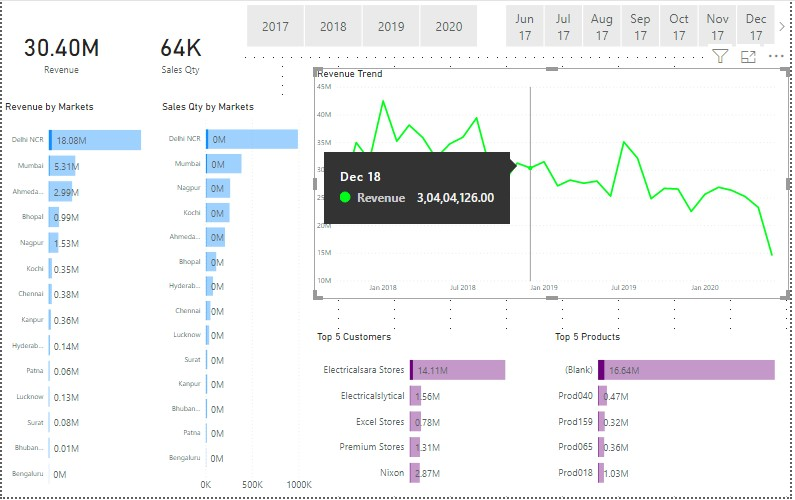

Layout of this report page (visuals, bound fields, positions):
{"tool":"powerbi","page":{"name":"Page 1","canvas":[1350,850],"ordinal":0},"visuals":[{"type":"card","fields":{"Values":["BaseMeasure.Revenue"]},"box":[0,0,204.4,170.7],"z":0},{"type":"card","fields":{"Values":["BaseMeasure.Sales Qty"]},"box":[204.4,0,204.4,170.7],"z":1},{"type":"barChart","title":"Revenue by Markets","fields":{"Y":["BaseMeasure.Revenue"],"Category":["sales markets.markets_name"]},"box":[0,170.7,268.4,679.1],"z":2},{"type":"barChart","title":"Sales Qty by Markets","fields":{"Y":["BaseMeasure.Sales Qty"],"Category":["sales markets.markets_name"]},"box":[268.4,170.7,266.7,679.1],"z":3},{"type":"slicer","fields":{"Values":["sales date.year"]},"box":[394.7,0,444.4,85.3],"z":4},{"type":"slicer","fields":{"Values":["sales date.cy_date"]},"box":[839.1,0,510.2,85.3],"z":5},{"type":"barChart","title":"Top 5 Customers","fields":{"Y":["BaseMeasure.Revenue"],"Category":["sales customers.custmer_name"]},"box":[535.1,565.3,407.1,284.4],"z":6},{"type":"barChart","title":"Top 5 Products","fields":{"Y":["BaseMeasure.Revenue"],"Category":["sales products.product_code"]},"box":[942.2,565.3,407.1,284.4],"z":7},{"type":"lineChart","title":"Revenue Trend","fields":{"Y":["BaseMeasure.Revenue"],"Category":["sales date.cy_date"]},"box":[535.1,115.6,814.2,394.7],"z":8}]}

Visuals, with their boxes in screenshot pixels (x1, y1, x2, y2), scaled from the page's 1350x850 canvas onto the 795x500 screenshot:
card - BaseMeasure.Revenue: box=[0, 0, 120, 100]
card - BaseMeasure.Sales Qty: box=[120, 0, 241, 100]
"Revenue by Markets" barChart: box=[0, 100, 158, 499]
"Sales Qty by Markets" barChart: box=[158, 100, 315, 499]
slicer - sales date.year: box=[232, 0, 494, 50]
slicer - sales date.cy_date: box=[494, 0, 794, 50]
"Top 5 Customers" barChart: box=[315, 333, 555, 499]
"Top 5 Products" barChart: box=[555, 333, 794, 499]
"Revenue Trend" lineChart: box=[315, 68, 794, 300]
